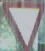Give way: (2, 1, 42, 50)
